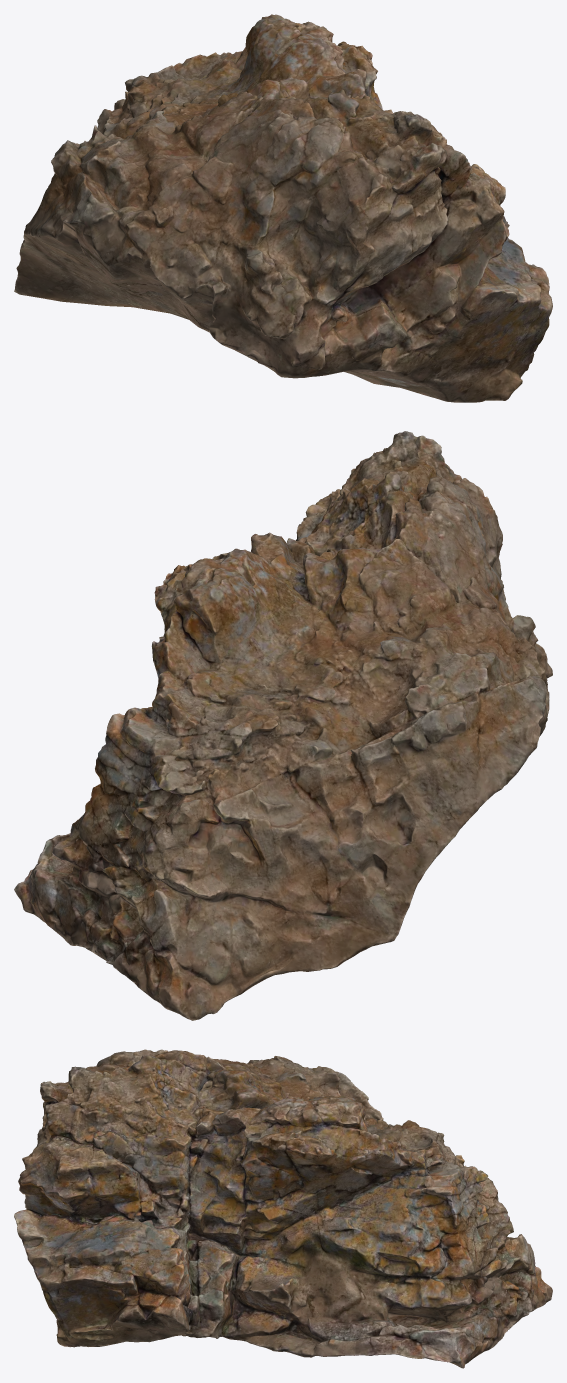
Rendered from boulder_01.glb.
3 views of the same model, one above another, from view 1: azimuth 30°, elevation 25°; view 2: azimuth 150°, elevation 25°; view 3: azimuth 270°, elevation 25° (orthographic). The views are drawn at different scales.
Visible parts, largest first — view 1: boulder_01; view 2: boulder_01; view 3: boulder_01.
Part boxes in pixels (x1,y1,x2,y2): boulder_01: [14, 14, 552, 402]; boulder_01: [14, 431, 552, 1020]; boulder_01: [14, 1049, 552, 1368].
Size of the model in its own units: 1.27 by 1 by 1.83.
1 material, 1 textured.
